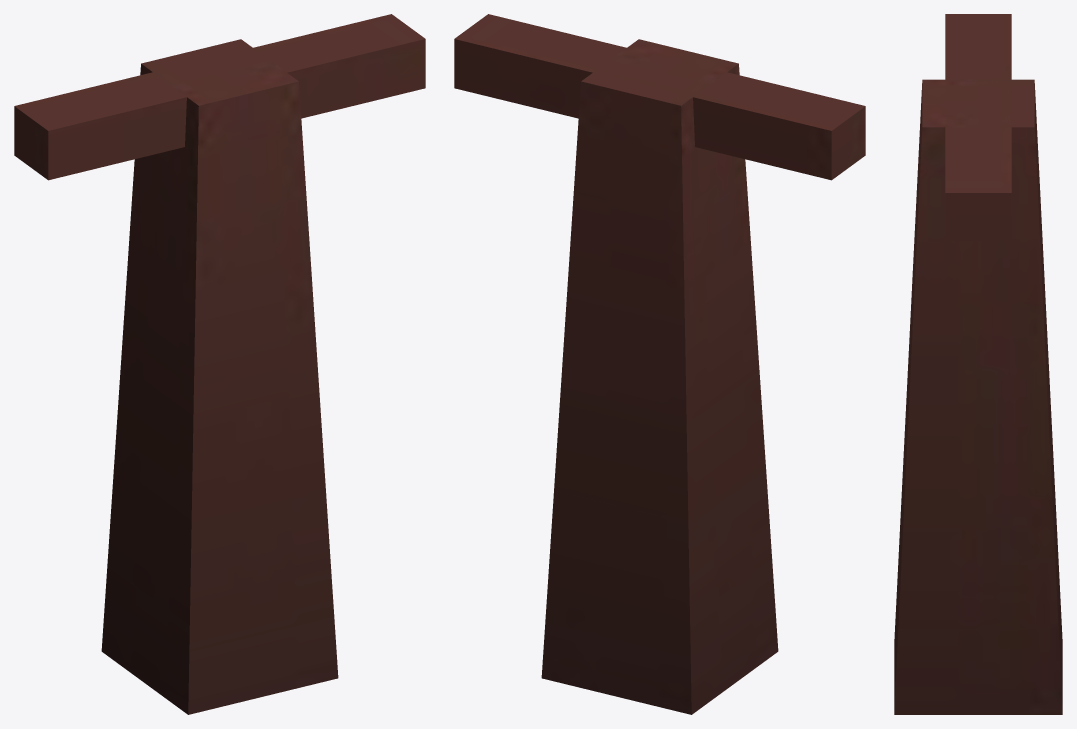
The model's file is train-stop.glb.
3 renders of one model, left to right at view 1: azimuth 30°, elevation 25°; view 2: azimuth 150°, elevation 25°; view 3: azimuth 270°, elevation 25°, orthographic. The views are drawn at different scales.
Parts seen in each view (by area): view 1: train-stop; view 2: train-stop; view 3: train-stop.
Boxes of the visible parts, <box> form: train-stop: <box>14,14,425,714</box>; train-stop: <box>454,14,865,714</box>; train-stop: <box>894,14,1062,714</box>.
Size of the model in its own units: 0.16 by 0.24 by 0.0636.
Materials: 1 (1 with a texture image).
